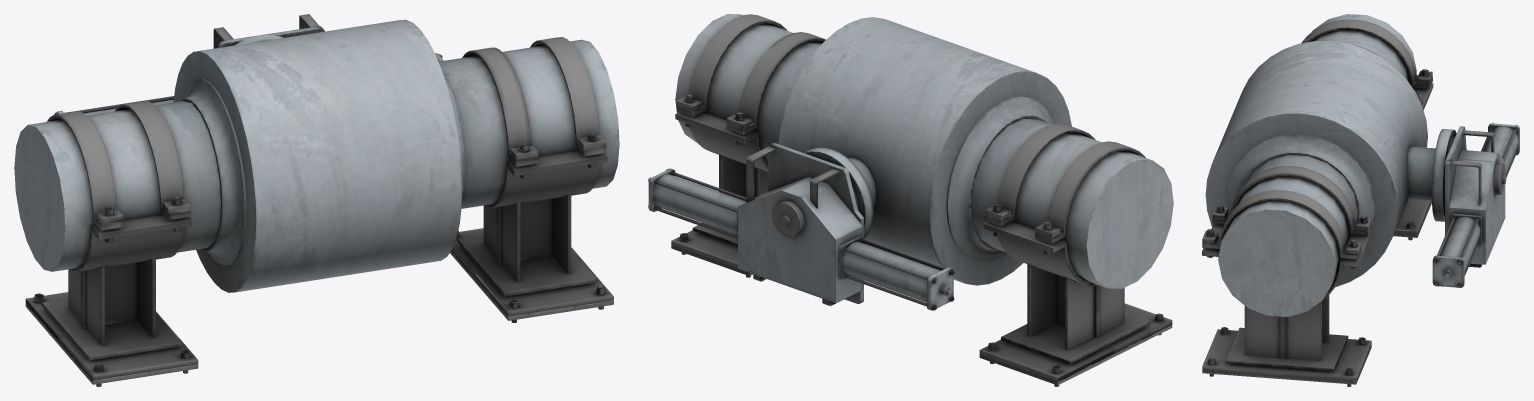
Rendered from LanarkMainValve-v1.glb.
The picture shows the model from 3 angles, left to right: view 1: azimuth 30°, elevation 25°; view 2: azimuth 150°, elevation 25°; view 3: azimuth 270°, elevation 25°; orthographic projection. The views are drawn at different scales.
Visible parts, largest first — view 1: LanarkMainValve_v1; view 2: LanarkMainValve_v1; view 3: LanarkMainValve_v1.
Part boxes in pixels (bbox=[...]): LanarkMainValve_v1: bbox=[14, 14, 619, 386]; LanarkMainValve_v1: bbox=[648, 14, 1173, 386]; LanarkMainValve_v1: bbox=[1202, 14, 1519, 386].
Size of the model in its own units: 0.9326 by 0.4547 by 0.6125.
1 material, 1 textured.
